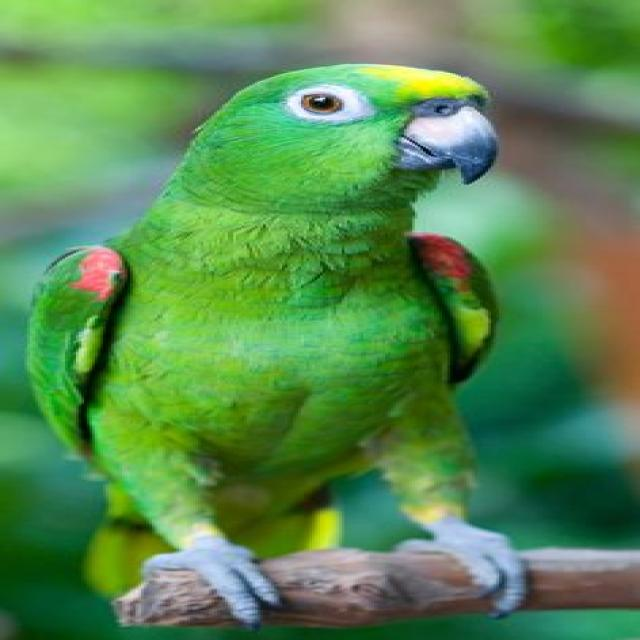Herbivorous: (24, 64, 534, 630)
